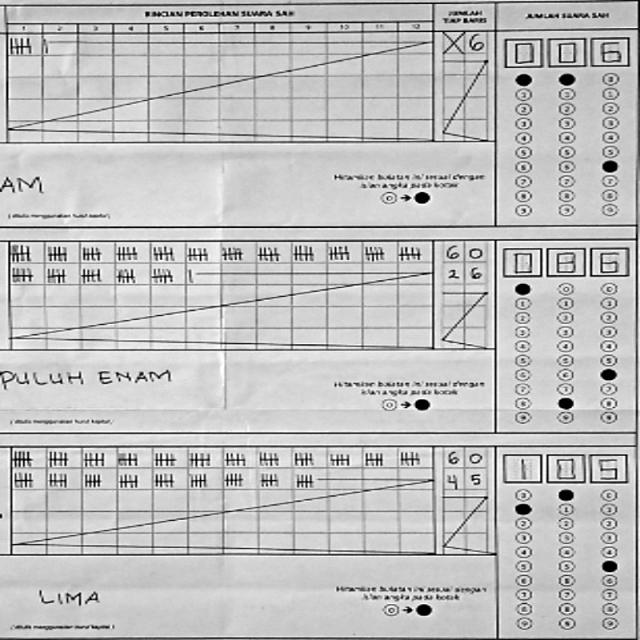Suara: (498, 31, 632, 68), (498, 447, 628, 485), (498, 242, 631, 278)
